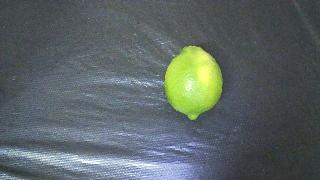LOCAL: (164, 46, 222, 120)
